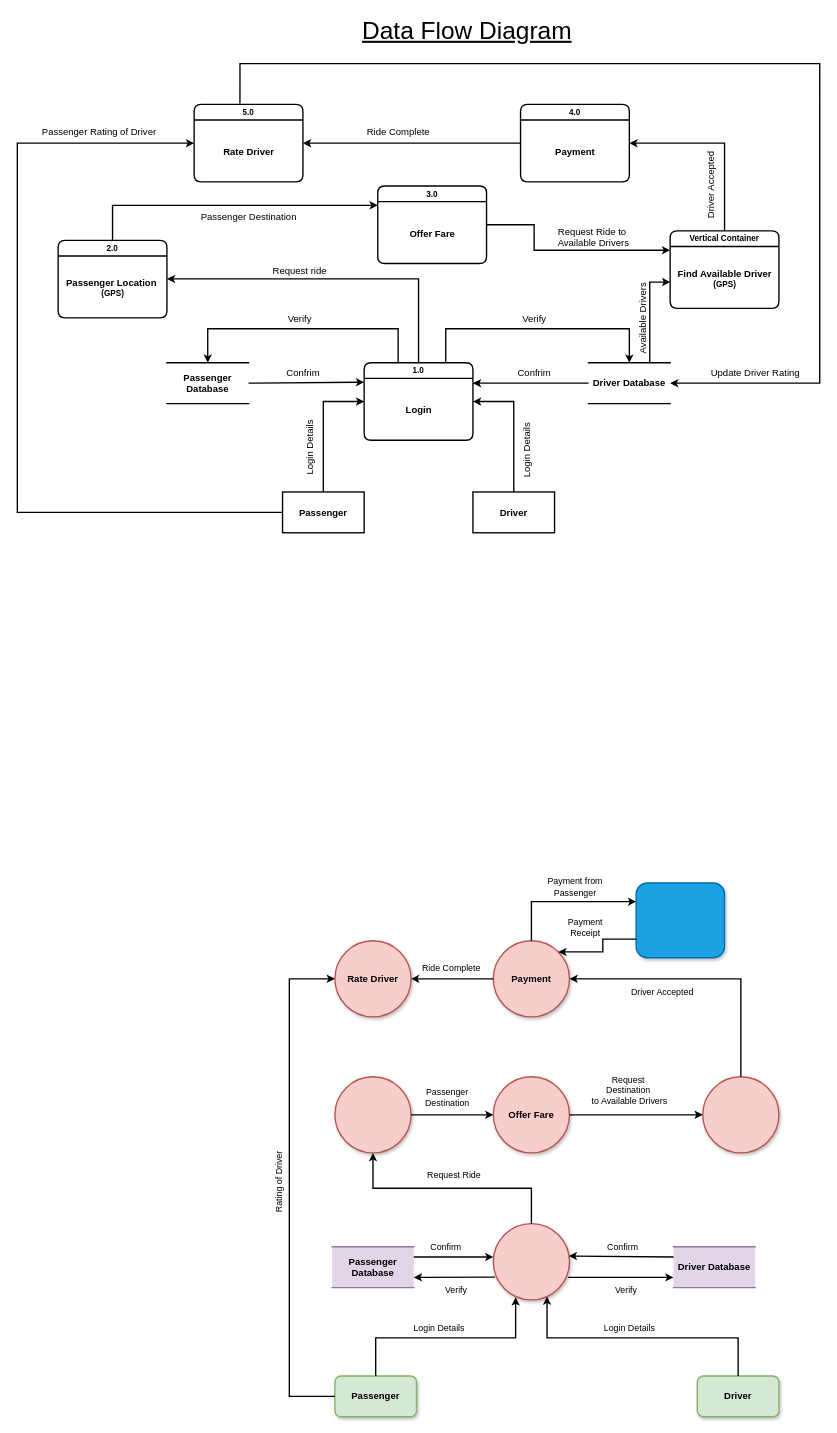
Some shapes in this 837 by 1433 pixel diagram are drawn without their labels. The shapes that lost their labels are listed below. From the top down, each one's centre as x and y in pixels, then its label:
point 680,921: Bank
point 373,1115: Find Passenger Location (GPS)
point 741,1115: Find Available Drivers (GPS)
point 532,1262: Login to Account
